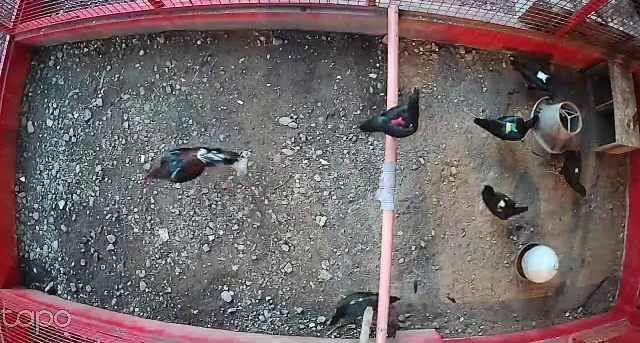Chicken: (357, 82, 426, 141), (326, 280, 402, 332), (506, 52, 558, 103), (469, 109, 547, 142), (549, 147, 593, 202), (479, 182, 530, 221)
Rooster: (142, 136, 241, 191)
Saddle_Color_Red: (389, 116, 405, 126)
Saddle_Color_White: (536, 69, 549, 85)
Saddle_Color_Yellow: (497, 197, 510, 209)
Saddle_Color_YellowGreen: (506, 120, 517, 134)
